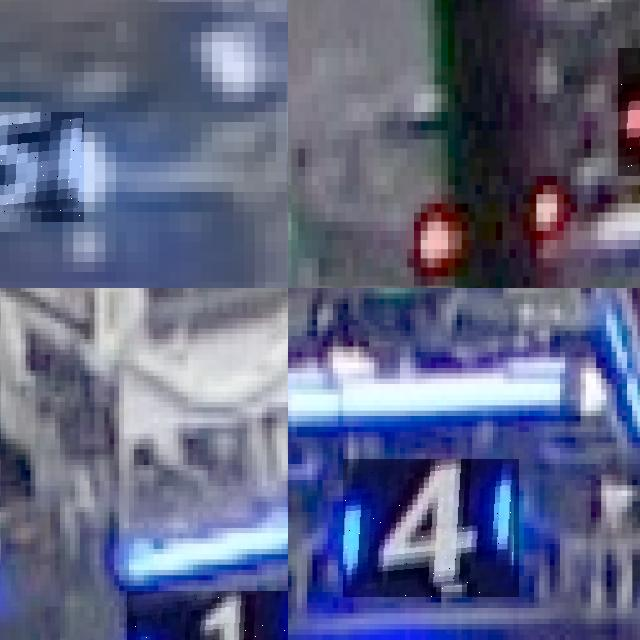B1: (126, 590, 288, 640)
B4: (343, 459, 519, 597)
B5: (0, 112, 84, 222)
